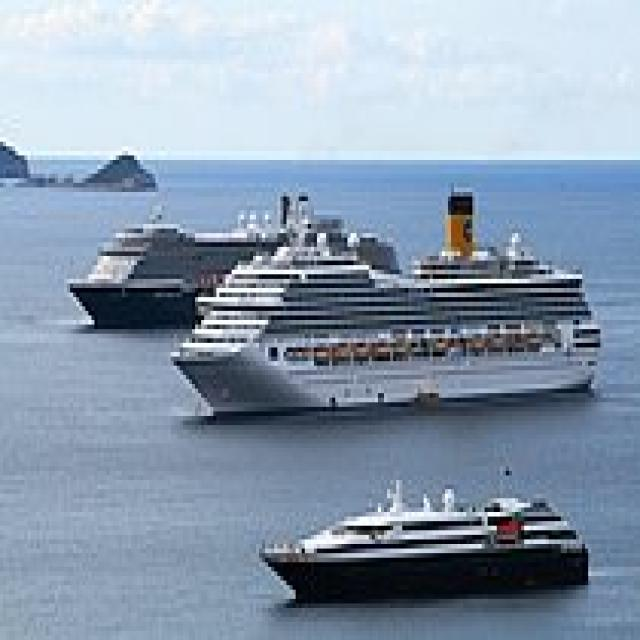Cruise: (164, 178, 600, 416), (58, 183, 296, 329)
